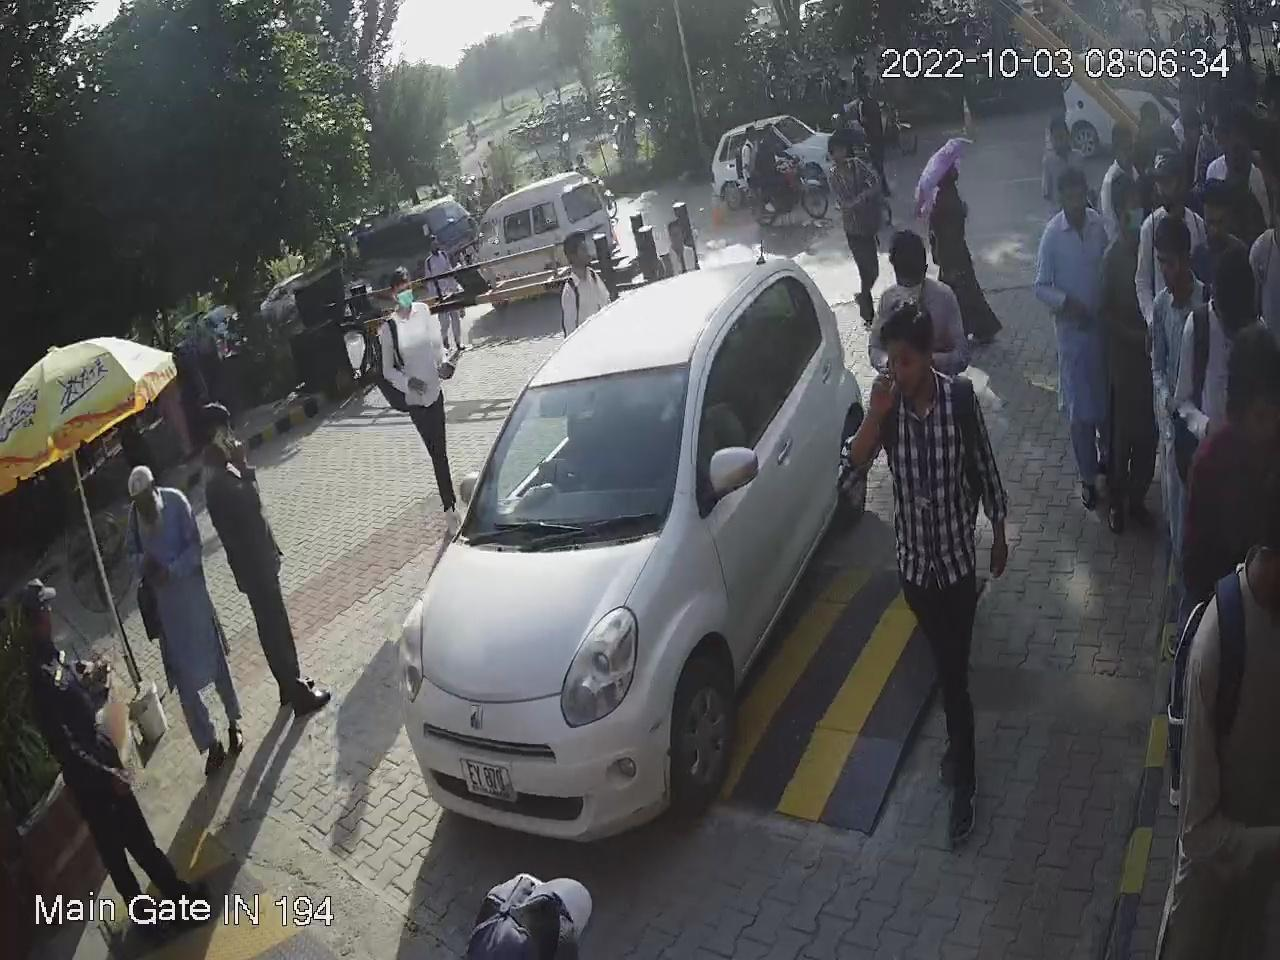windshield: (451, 355, 693, 555)
